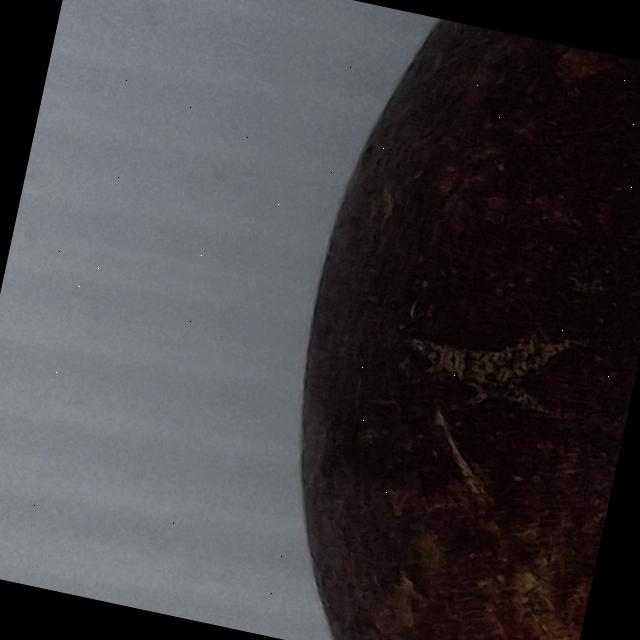mangosteen: (121, 0, 640, 640)
